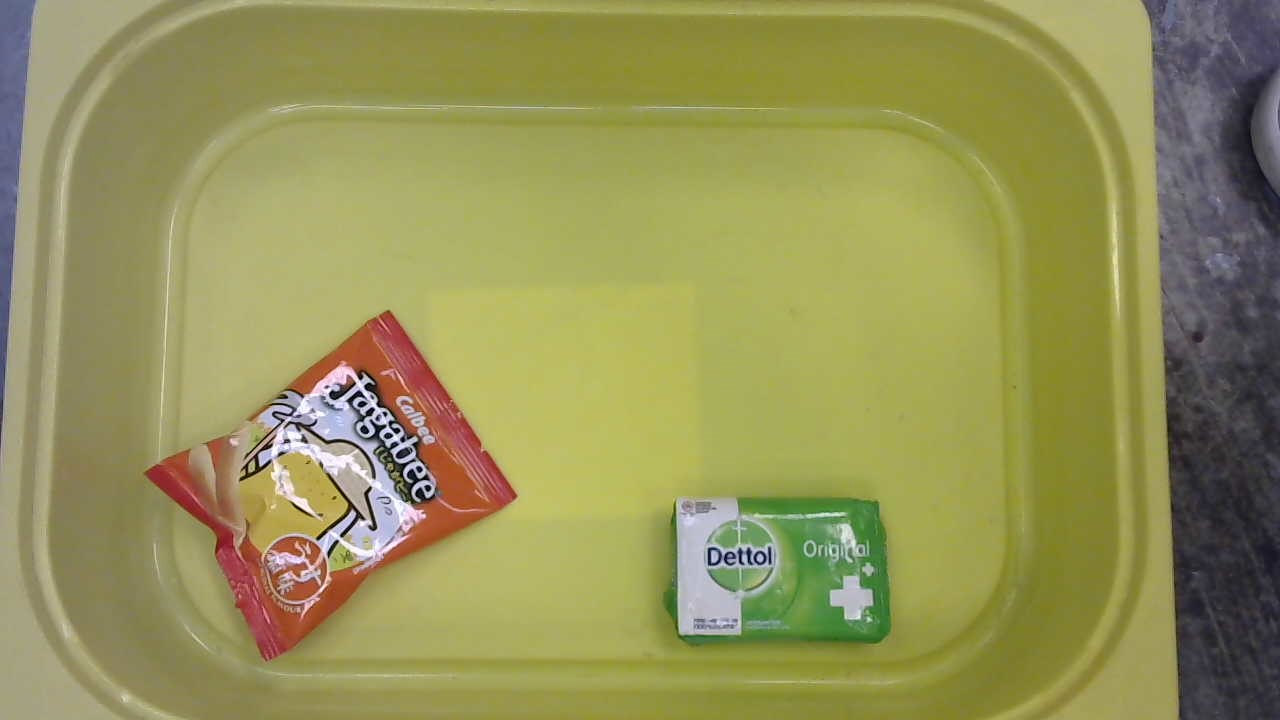Dettol: (663, 493, 892, 649)
JagabeeFarmer: (133, 304, 526, 668)
